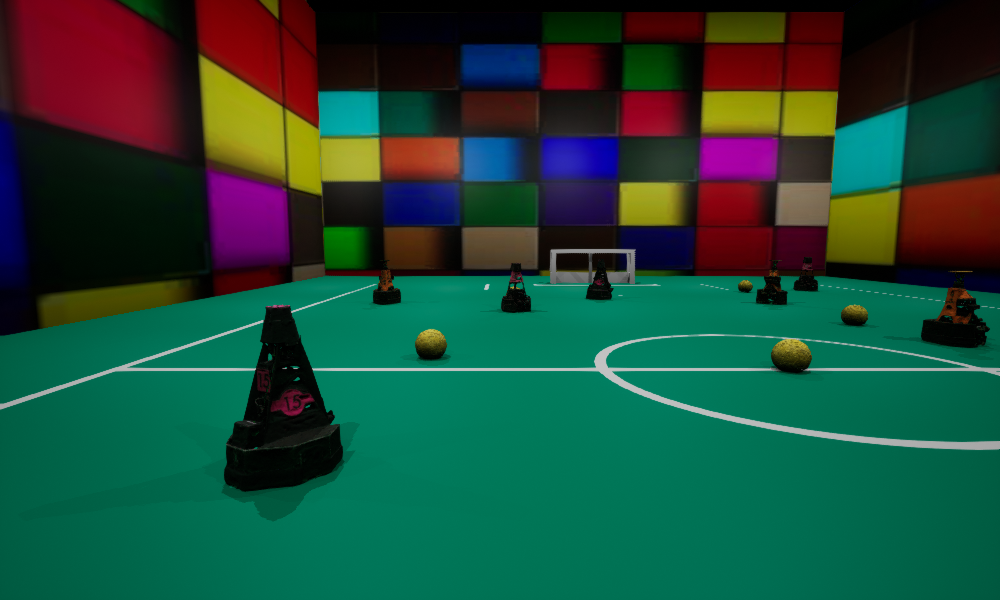b: (771, 339, 811, 372), (415, 329, 446, 358), (841, 304, 867, 324), (738, 280, 752, 291), (506, 286, 519, 294), (378, 281, 389, 289)
o: (921, 271, 989, 347), (756, 260, 787, 304), (373, 260, 400, 304)
p1: (224, 304, 342, 490), (586, 259, 613, 299)
p2: (501, 263, 530, 312), (793, 257, 817, 290)
